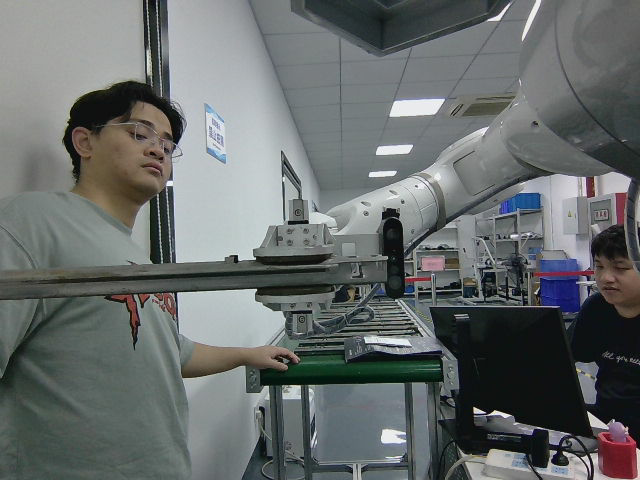up: (0, 251, 388, 300)
